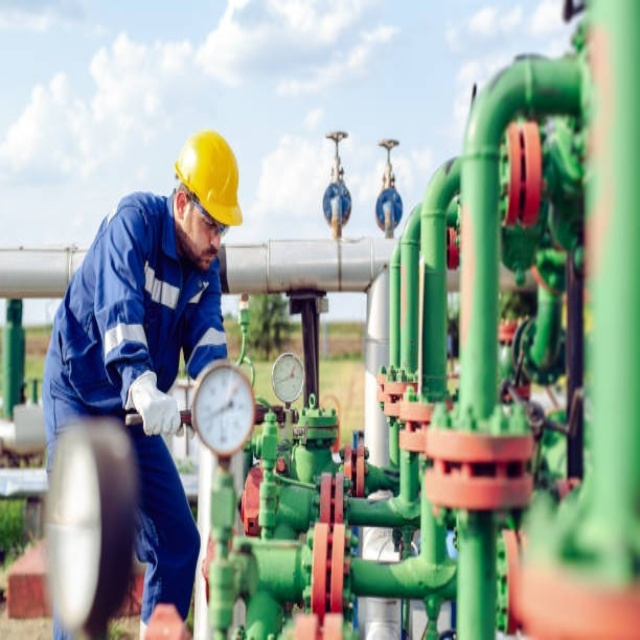Gafas: (182, 186, 230, 238)
Guantes: (129, 372, 182, 438)
Sin_mascara: (198, 243, 218, 271)
